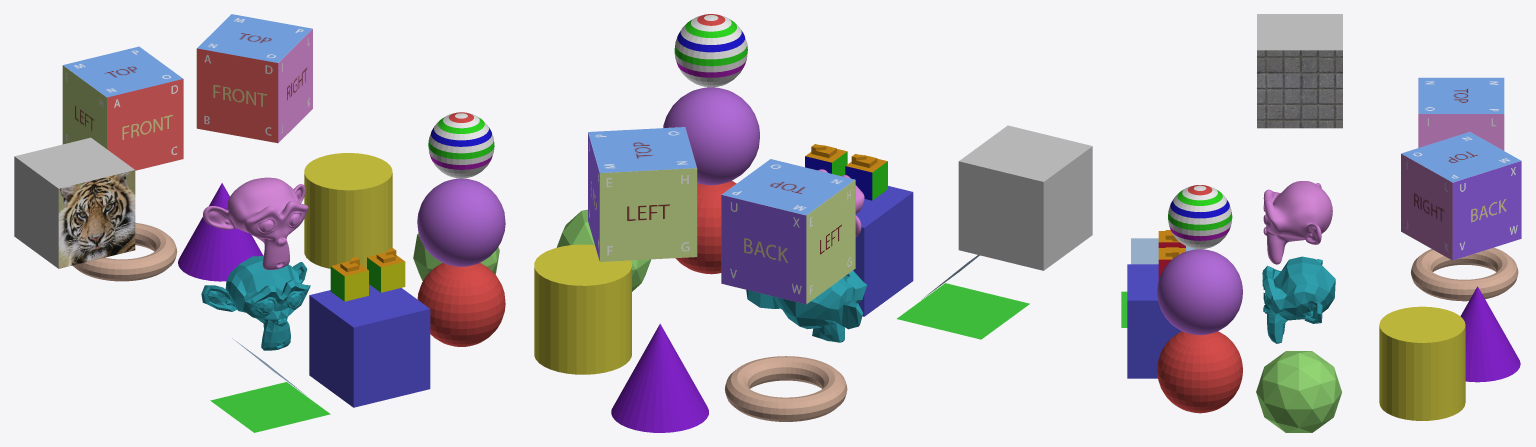
3 views of the same model, side by side, from view 1: azimuth 30°, elevation 25°; view 2: azimuth 150°, elevation 25°; view 3: azimuth 270°, elevation 25° (orthographic). The views are drawn at different scales.
Parts seen in each view (by area): view 1: Cube, Cube_003, Cube_001, Cube_002, Cylinder, Sphere_001, Sphere, Suzanne, SuzanneSmooth, Cone, Sphere_002, Plane (+4 smaller); view 2: Cube, Cube_002, Cube_003, Cylinder, Sphere_001, Cone, Cube_001, Torus, Sphere_002, Plane, Suzanne, Sphere (+3 smaller); view 3: Cube_003, Cube, Cylinder, Sphere_001, Sphere, Cube_002, Icohsphere, Suzanne, Cube_001, SuzanneSmooth, Torus, Cone (+3 smaller).
Part boxes in pixels (x1,y1,x2,y2): Cube: (14, 137, 135, 268); Cube_003: (196, 14, 312, 143); Cube_001: (309, 284, 430, 407); Cube_002: (62, 46, 183, 170); Cylinder: (304, 153, 392, 268); Sphere_001: (417, 178, 505, 266); Sphere: (417, 263, 505, 346); Suzanne: (201, 256, 310, 350); SuzanneSmooth: (203, 177, 308, 269); Cone: (178, 183, 263, 281); Sphere_002: (428, 112, 494, 178); Plane: (210, 382, 330, 432); Cube: (958, 125, 1092, 270); Cube_002: (721, 159, 855, 304); Cube_003: (588, 127, 697, 261); Cylinder: (534, 244, 631, 374); Sphere_001: (663, 87, 759, 185); Cone: (611, 323, 708, 432); Cube_001: (853, 186, 913, 316); Torus: (725, 356, 847, 421); Sphere_002: (674, 14, 747, 87); Plane: (897, 283, 1029, 339); Suzanne: (746, 270, 866, 342); Sphere: (675, 181, 736, 274); Cube_003: (1401, 131, 1521, 260); Cube: (1257, 14, 1342, 128); Cylinder: (1379, 306, 1465, 420); Sphere_001: (1157, 249, 1242, 335); Sphere: (1157, 331, 1242, 413); Cube_002: (1418, 77, 1504, 150); Icohsphere: (1256, 351, 1341, 432); Suzanne: (1262, 256, 1335, 343); Cube_001: (1127, 264, 1181, 378); SuzanneSmooth: (1263, 181, 1332, 264); Torus: (1411, 247, 1518, 301); Cone: (1460, 286, 1520, 382).
Size of the model in its own units: 11.9 by 9.29 by 5.73.
